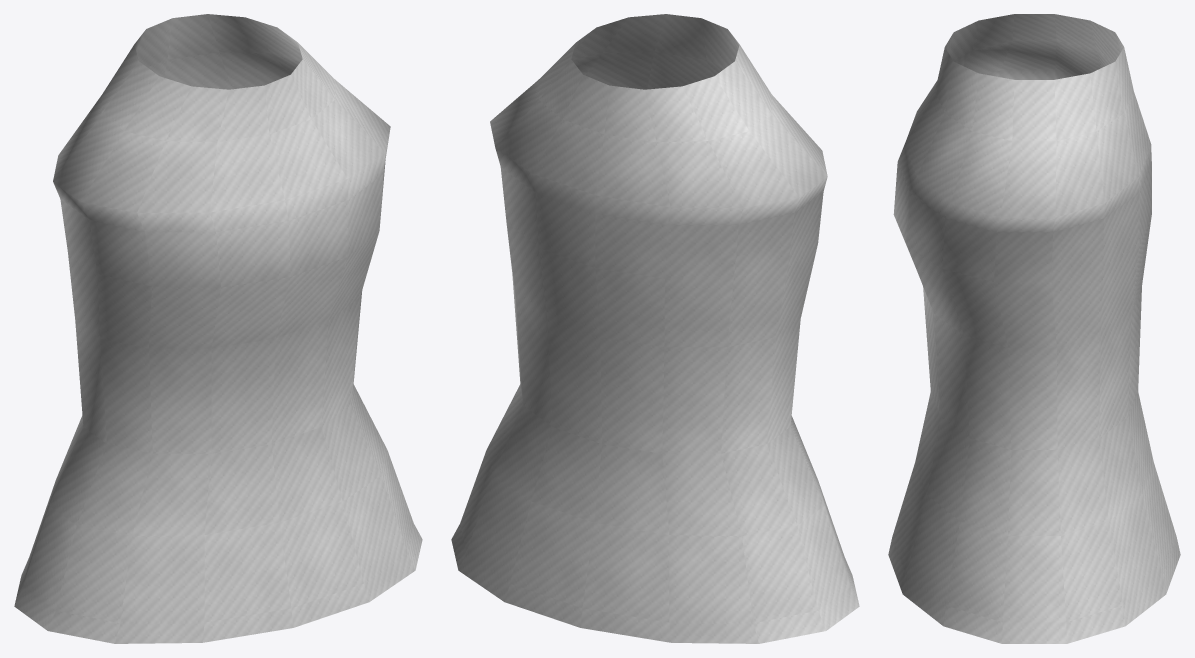
Rendered from shirt_tank_torso_f.glb.
The picture shows the model from 3 angles, left to right: view 1: azimuth 30°, elevation 25°; view 2: azimuth 150°, elevation 25°; view 3: azimuth 270°, elevation 25°; orthographic projection. The views are drawn at different scales.
Parts seen in each view (by area): view 1: shirt_tank_torso_f; view 2: shirt_tank_torso_f; view 3: shirt_tank_torso_f.
Part boxes in pixels (bbox=[...]): shirt_tank_torso_f: bbox=[14, 14, 422, 643]; shirt_tank_torso_f: bbox=[451, 14, 859, 643]; shirt_tank_torso_f: bbox=[888, 14, 1180, 643].
Size of the model in its own units: 0.4329 by 0.575 by 0.3.
Materials: 1 (1 with a texture image).
